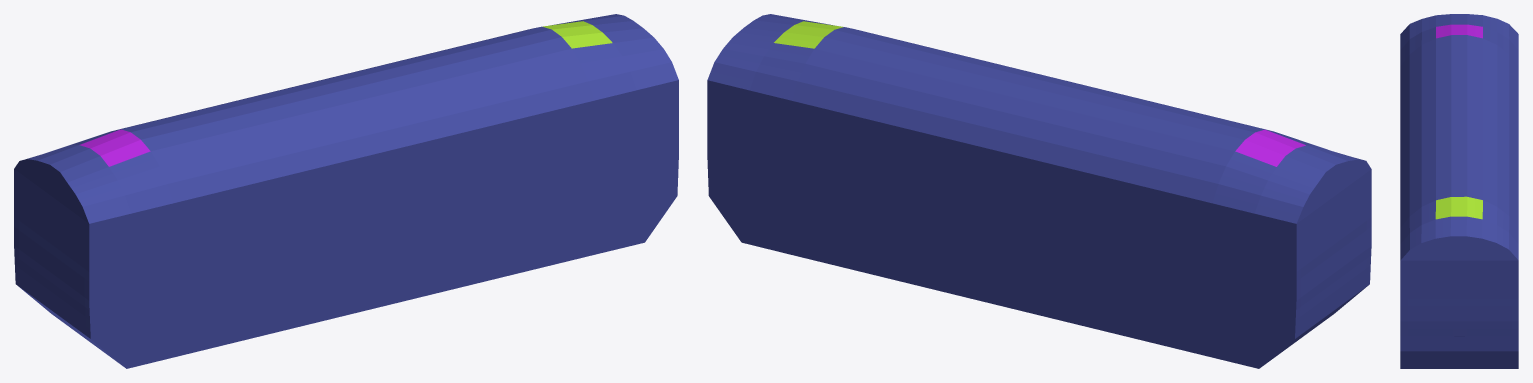
The model's file is wagon.glb.
3 views of the same model, side by side, from view 1: azimuth 30°, elevation 25°; view 2: azimuth 150°, elevation 25°; view 3: azimuth 270°, elevation 25° (orthographic). The views are drawn at different scales.
Visible parts, largest first — view 1: Engine; view 2: Engine; view 3: Engine.
Boxes of the visible parts, x1=… form: Engine: x1=14, y1=14, x2=678, y2=368; Engine: x1=707, y1=14, x2=1371, y2=368; Engine: x1=1400, y1=14, x2=1518, y2=368.
Size of the model in its own units: 14.03 by 4.41 by 3.1.
